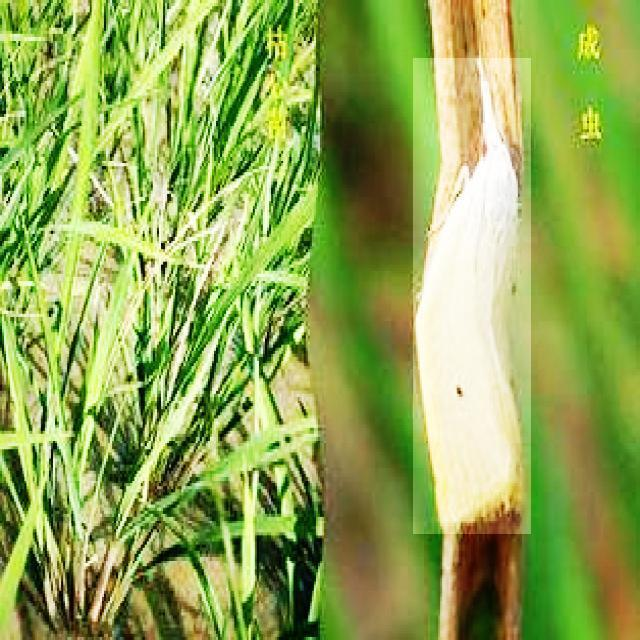stem-borer: (413, 58, 531, 534)
